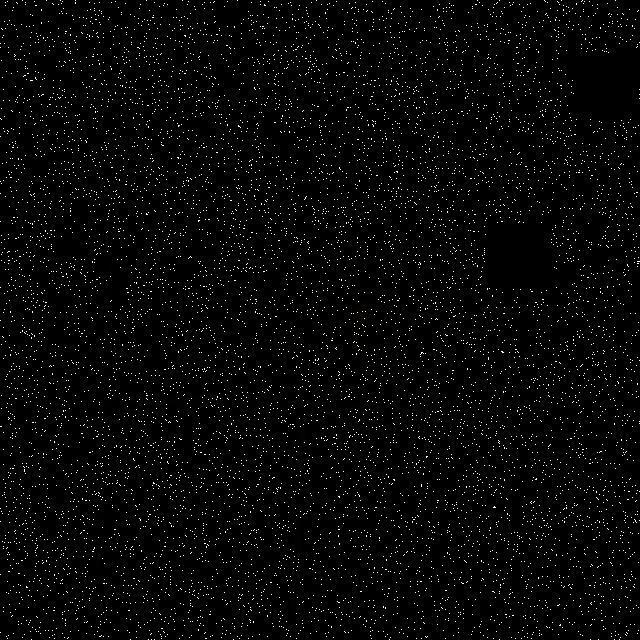egg: (245, 200, 401, 404)
